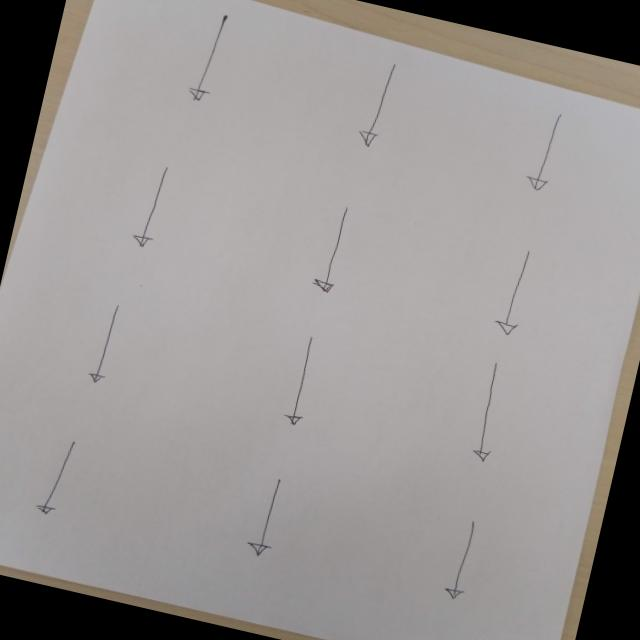arrow_line_down: (448, 356, 528, 471), (184, 4, 237, 111), (236, 470, 297, 562), (270, 332, 326, 431), (308, 198, 358, 300), (356, 56, 405, 154), (492, 244, 542, 340), (27, 433, 82, 520), (438, 516, 488, 607), (128, 160, 175, 256), (80, 294, 126, 390), (529, 107, 567, 195)
